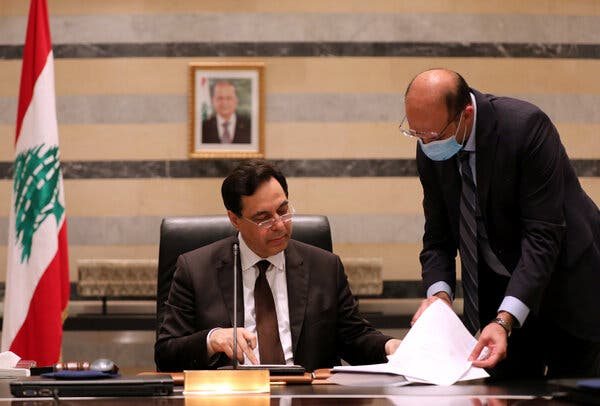without_mask: (242, 197, 294, 253)
